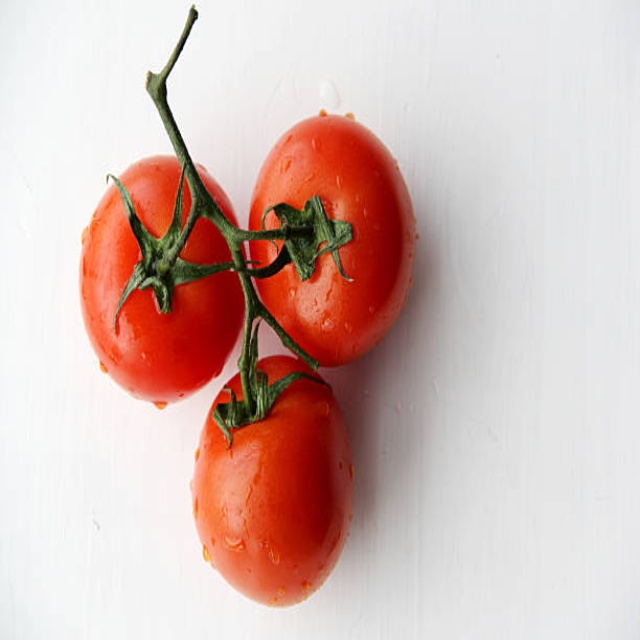tomato: (241, 122, 422, 364), (192, 370, 366, 599), (86, 157, 250, 399)
